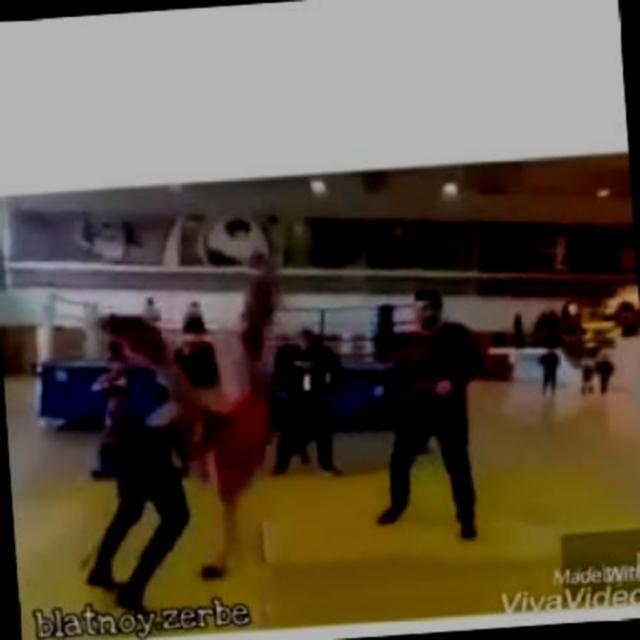fight: (85, 248, 298, 616)
